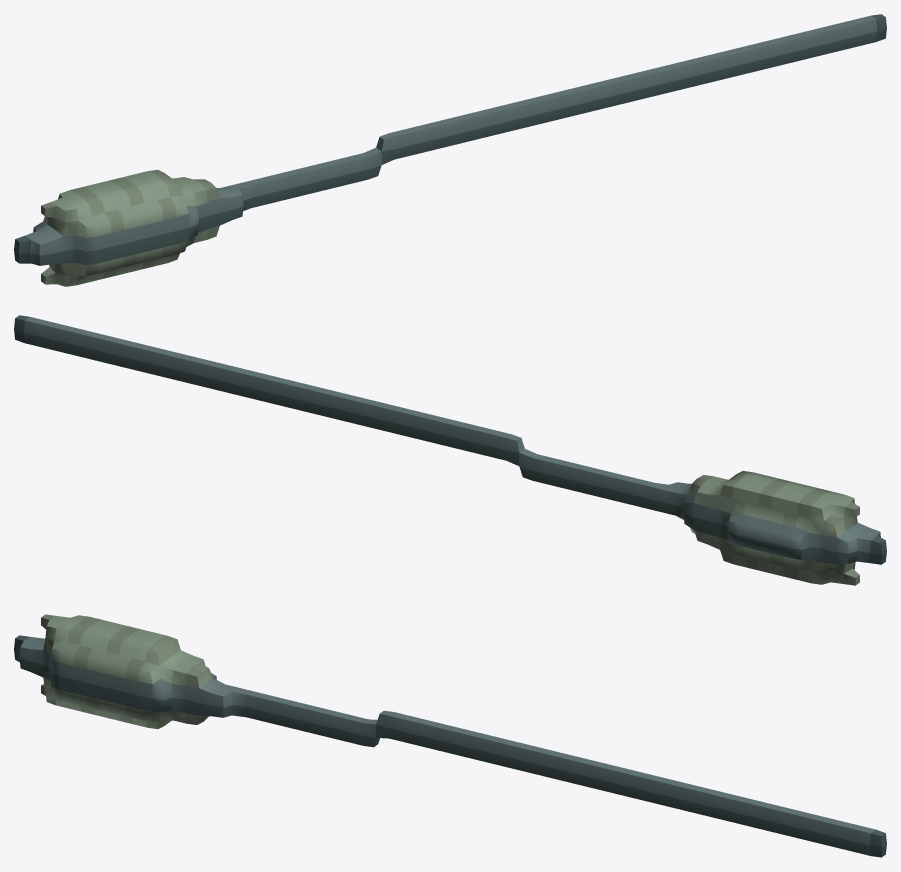
The model's file is Fight_716_2_12.obj.
3 views of the same model, one above another, from view 1: azimuth 30°, elevation 25°; view 2: azimuth 150°, elevation 25°; view 3: azimuth 330°, elevation 25° (orthographic).
Size of the model in its own units: 6.67 by 0.6 by 0.5.
